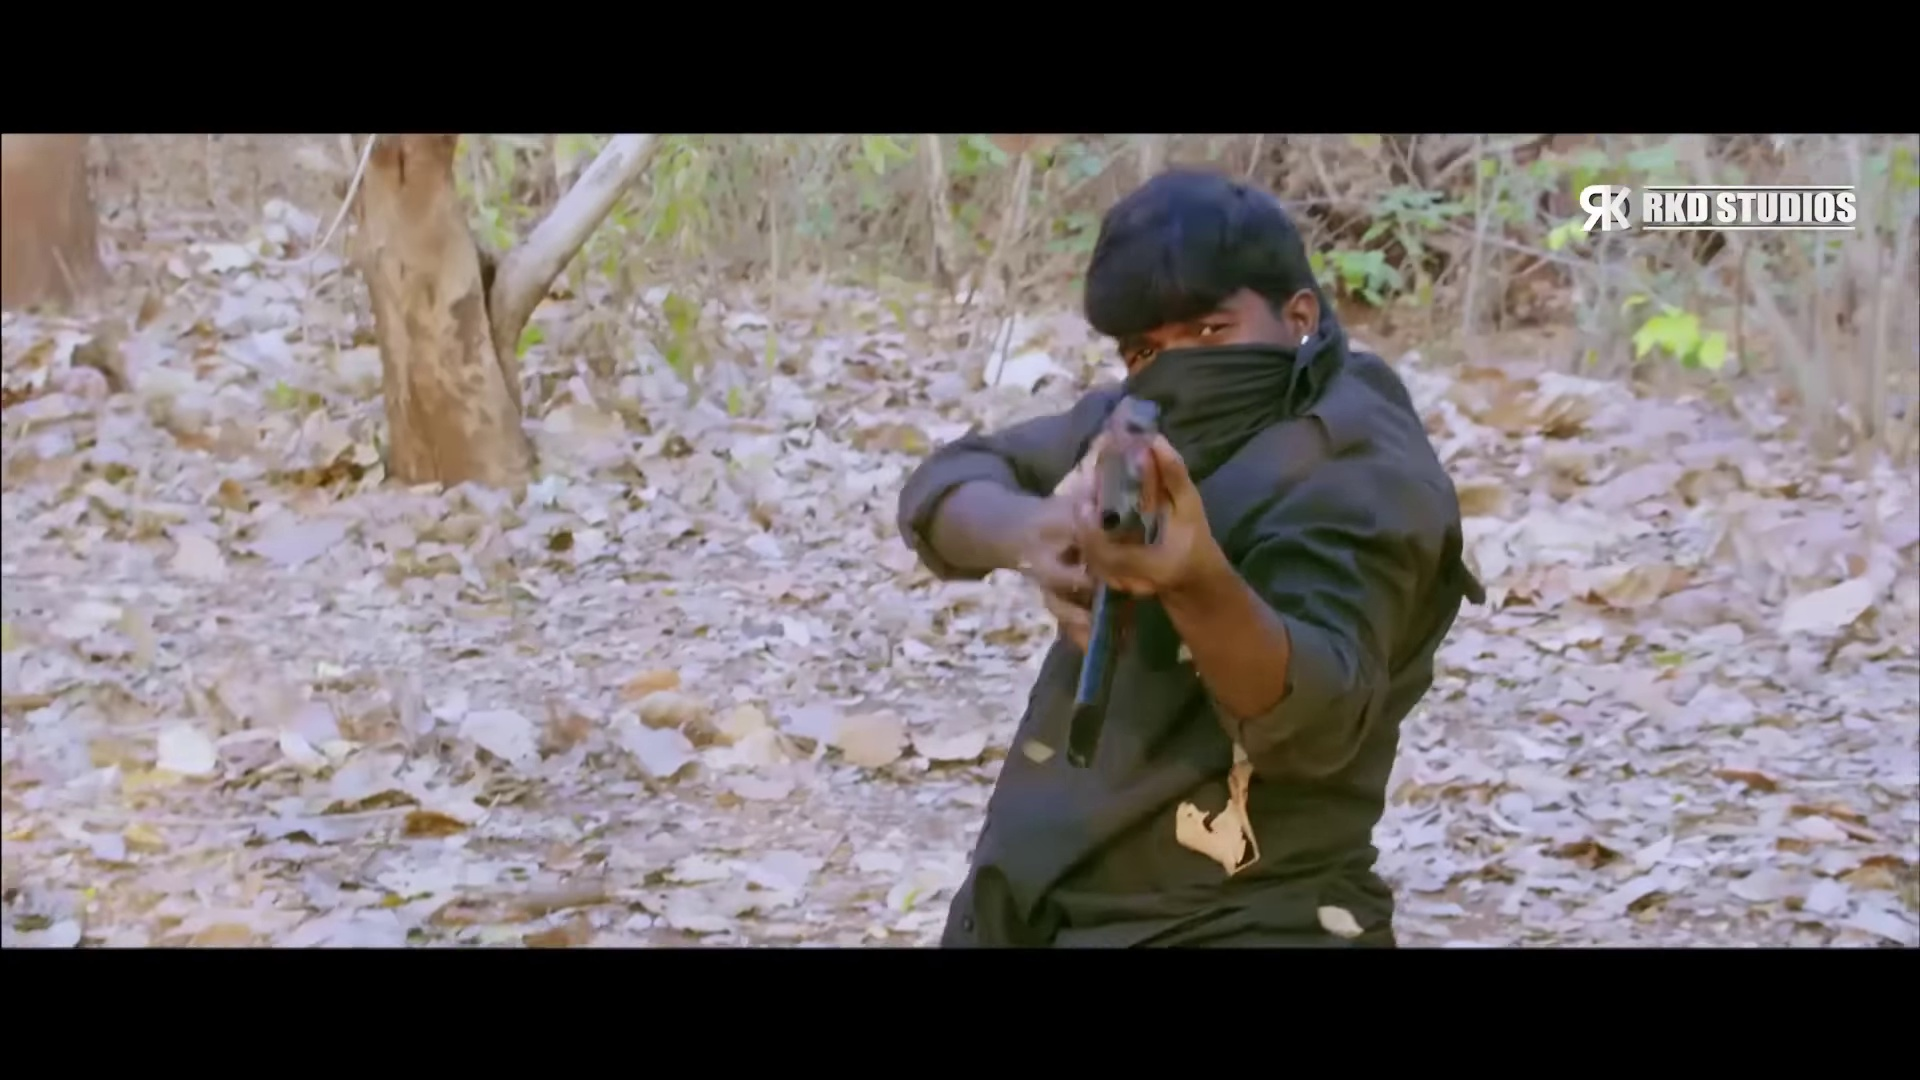gun: (1058, 388, 1191, 781)
p_w_gun: (891, 165, 1478, 953)
